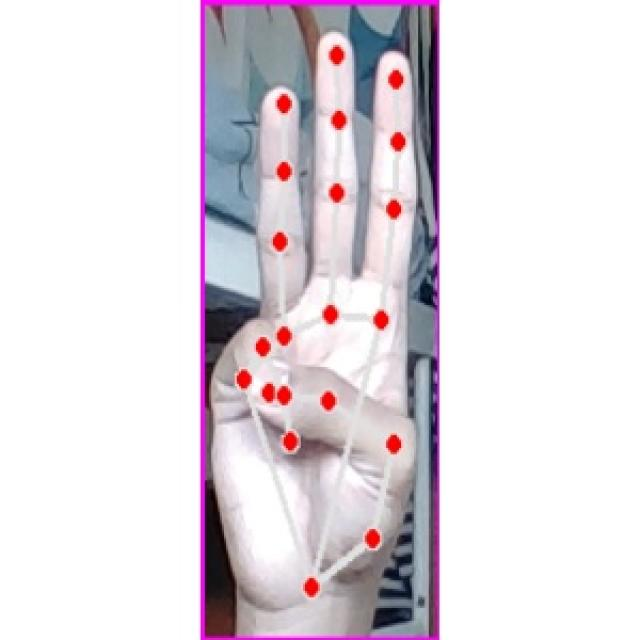W: (212, 27, 421, 611)
